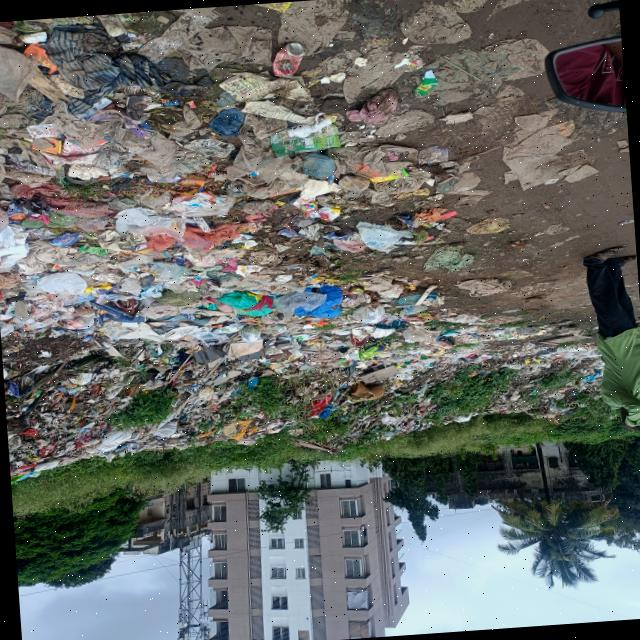garbage: (0, 0, 478, 282), (0, 244, 598, 463)
